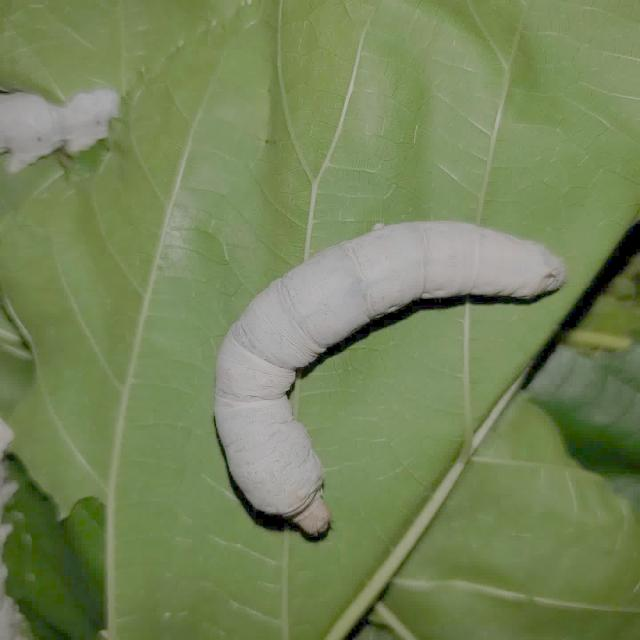Healthy: (196, 189, 574, 548)
